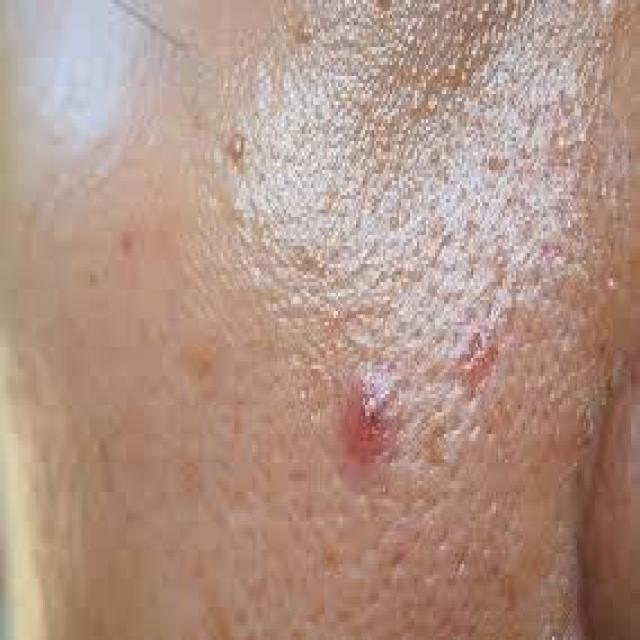Acne: (336, 349, 404, 507)
Englarged-Pores: (140, 44, 640, 616)
Oily-Skin: (195, 76, 565, 548)
